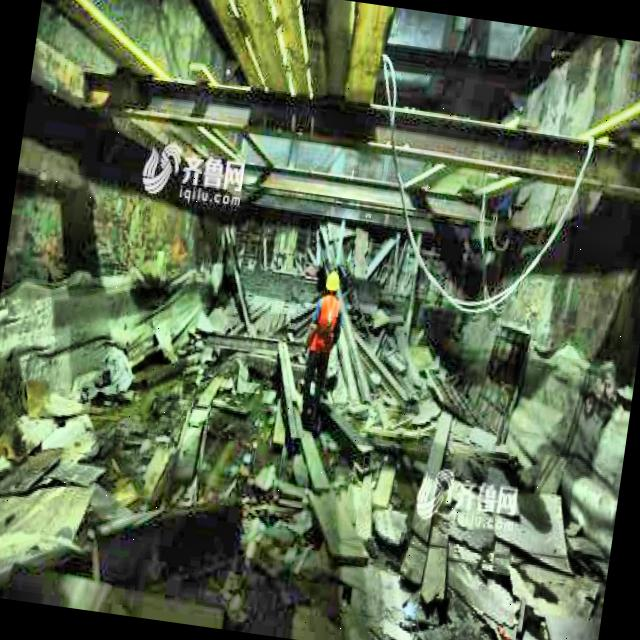helmet: (318, 264, 346, 306)
